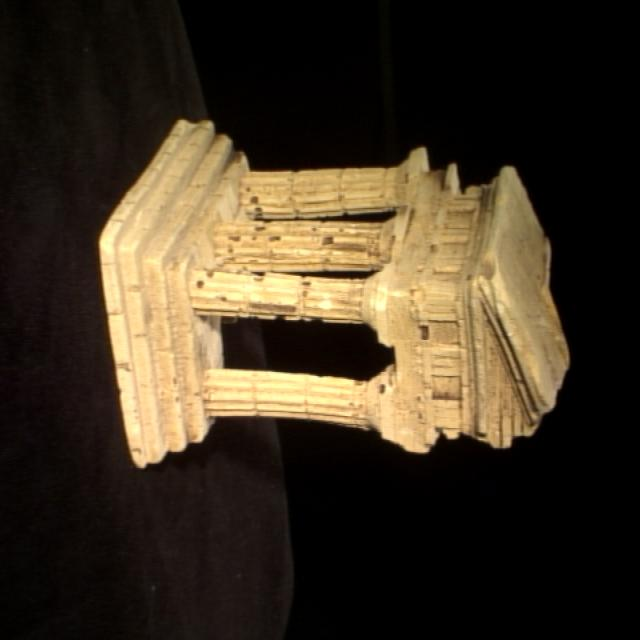Instance-Segmentation: (100, 120, 567, 467)
